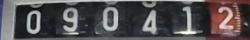digits: (172, 5, 203, 34), (217, 6, 234, 30), (62, 7, 79, 31), (102, 6, 118, 31), (140, 9, 156, 34), (26, 10, 40, 33)
